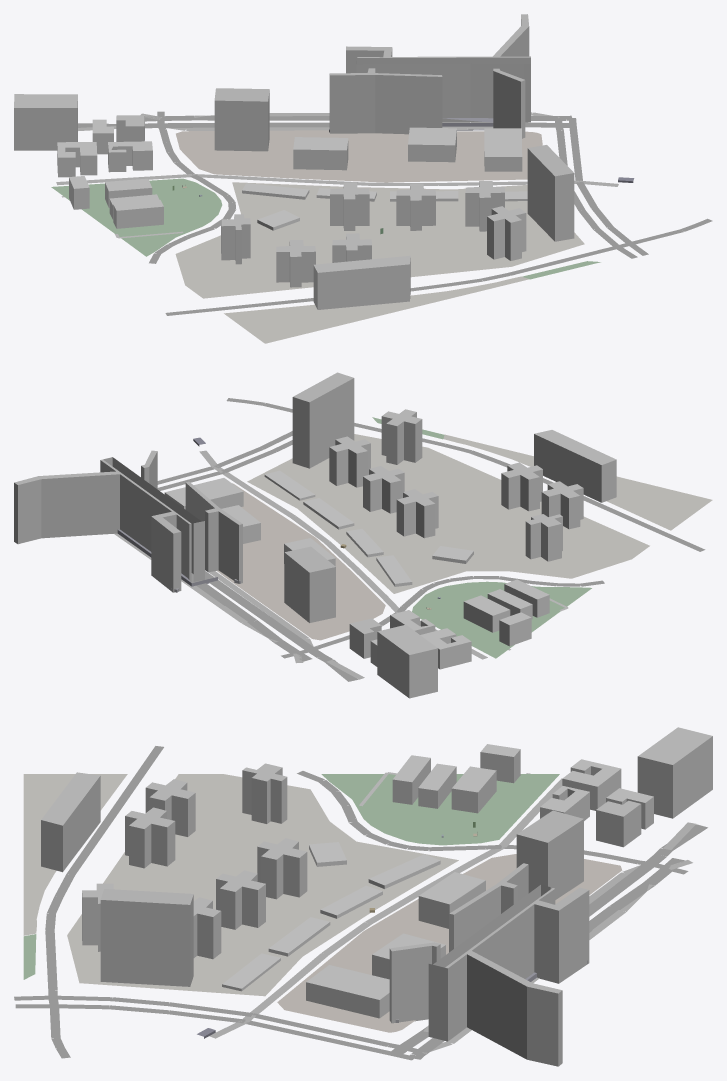
3 views of the same model, one above another, from view 1: azimuth 30°, elevation 25°; view 2: azimuth 150°, elevation 25°; view 3: azimuth 270°, elevation 25° (orthographic). The views are drawn at different scales.
Bounding box in the file's own units: 561 × 76 × 520.
